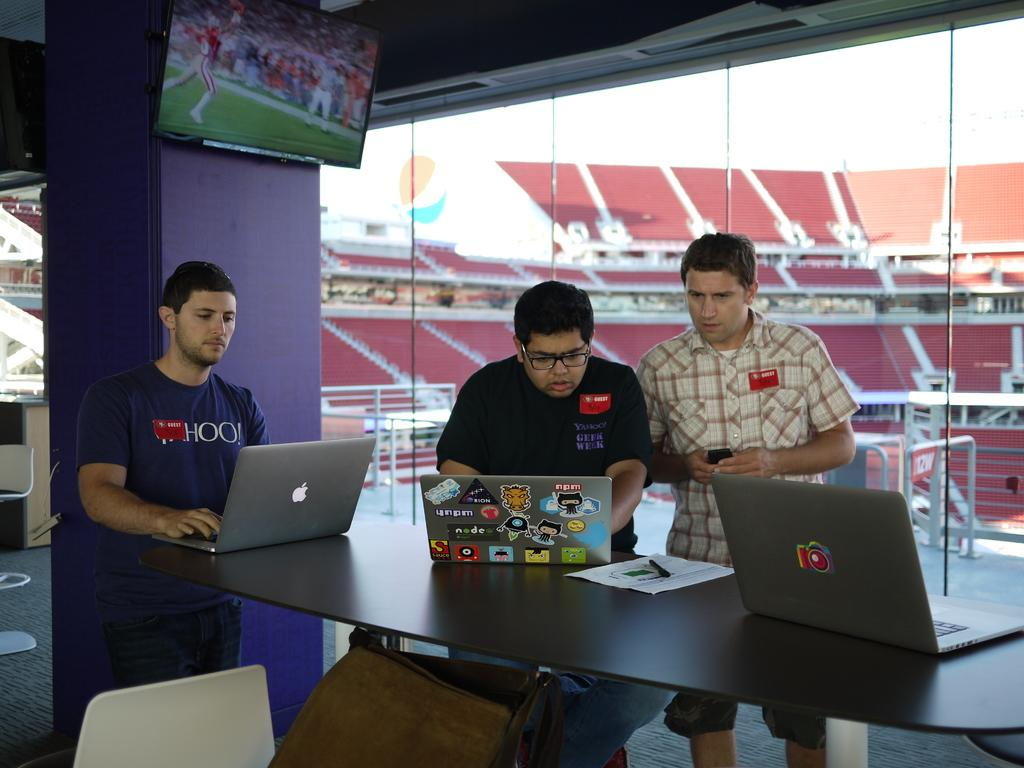Laptop: (710, 476, 958, 670), (149, 438, 378, 556), (420, 476, 612, 564)
